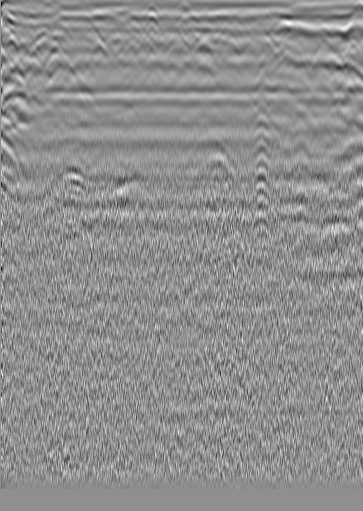가스: (110, 168, 156, 199)
상수: (312, 34, 332, 54)
우수: (194, 29, 214, 49)
